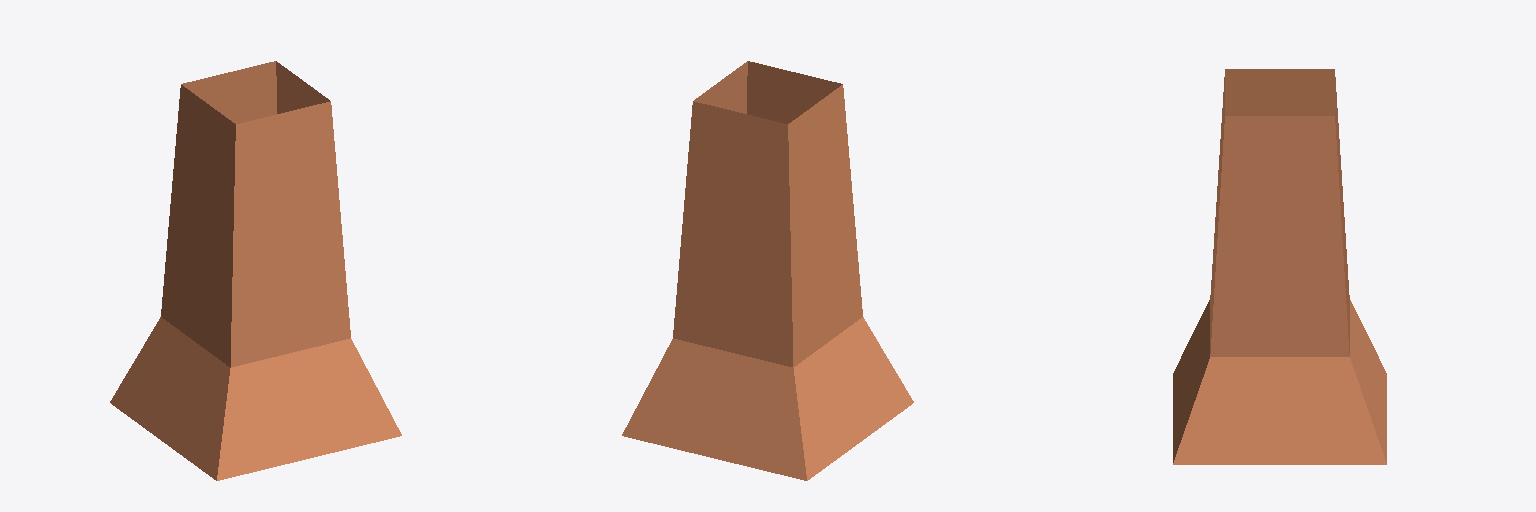
Rendered from tree.trunk.obj.
The picture shows the model from 3 angles: view 1: azimuth 30°, elevation 25°; view 2: azimuth 150°, elevation 25°; view 3: azimuth 270°, elevation 25°; orthographic projection.
Parts seen in each view (by area): view 1: tree; view 2: tree; view 3: tree.
Boxes of the visible parts, <box> form: tree: <box>110,61,401,480</box>; tree: <box>622,61,913,480</box>; tree: <box>1173,69,1386,464</box>.
Bounding box in the file's own units: 0.2886 × 0.4854 × 0.2886.